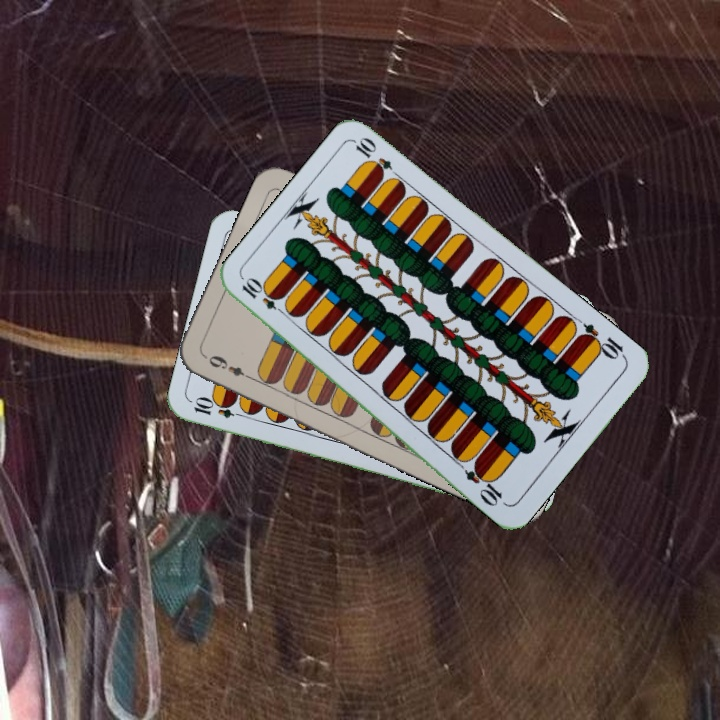E10: (574, 319, 629, 363), (237, 275, 291, 319), (190, 396, 249, 421)
E9: (200, 351, 256, 383)
